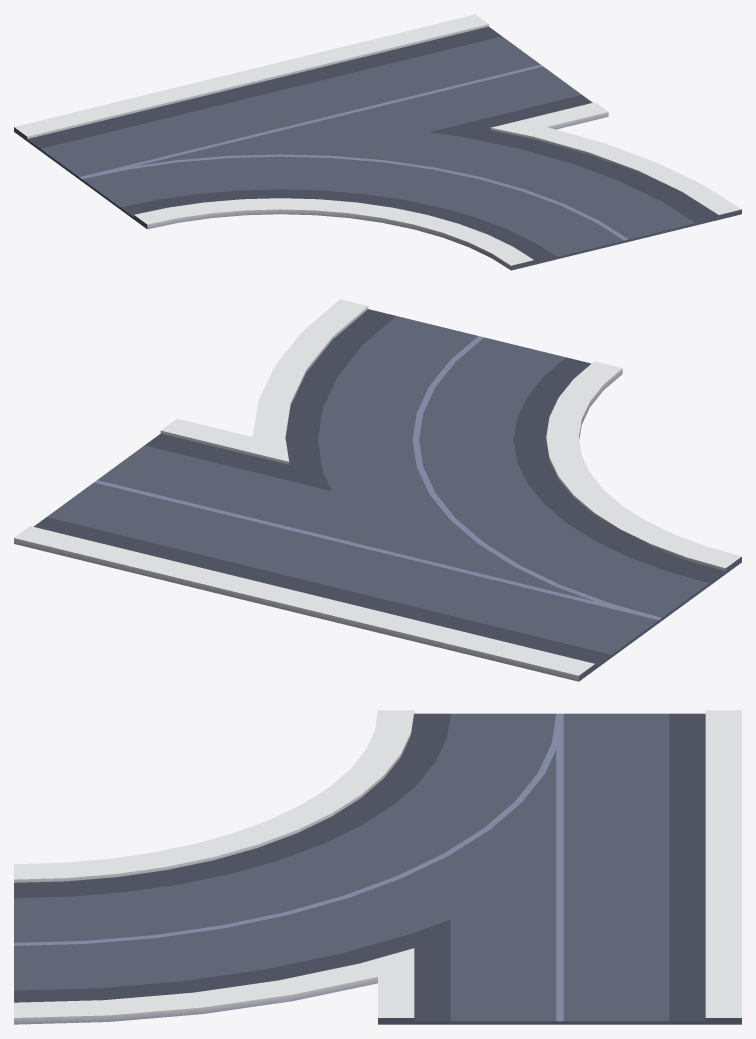
Rendered from kenney-city-roads-road-curve-intersection.glb.
The picture shows the model from 3 angles, top to bottom: view 1: azimuth 30°, elevation 25°; view 2: azimuth 150°, elevation 25°; view 3: azimuth 270°, elevation 25°; orthographic projection. The views are drawn at different scales.
Parts seen in each view (by area): view 1: road-curve-intersection; view 2: road-curve-intersection; view 3: road-curve-intersection.
Part boxes in pixels (left/top/right/bottom): road-curve-intersection: left=14, top=14, right=741, bottom=270; road-curve-intersection: left=14, top=299, right=741, bottom=681; road-curve-intersection: left=14, top=710, right=741, bottom=1024.
Bounding box in the file's own units: 2 × 0.02 × 2.
1 material, 1 textured.
